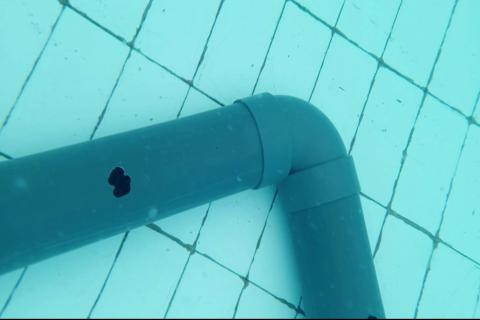kebocoran: (108, 165, 131, 198)
